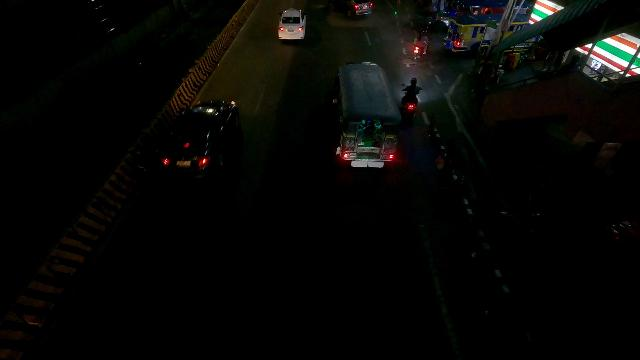car: (150, 99, 242, 174), (276, 9, 309, 46), (332, 0, 373, 18)
jeepney: (327, 61, 401, 167)
motorcycle: (401, 77, 426, 122), (411, 31, 430, 63)
